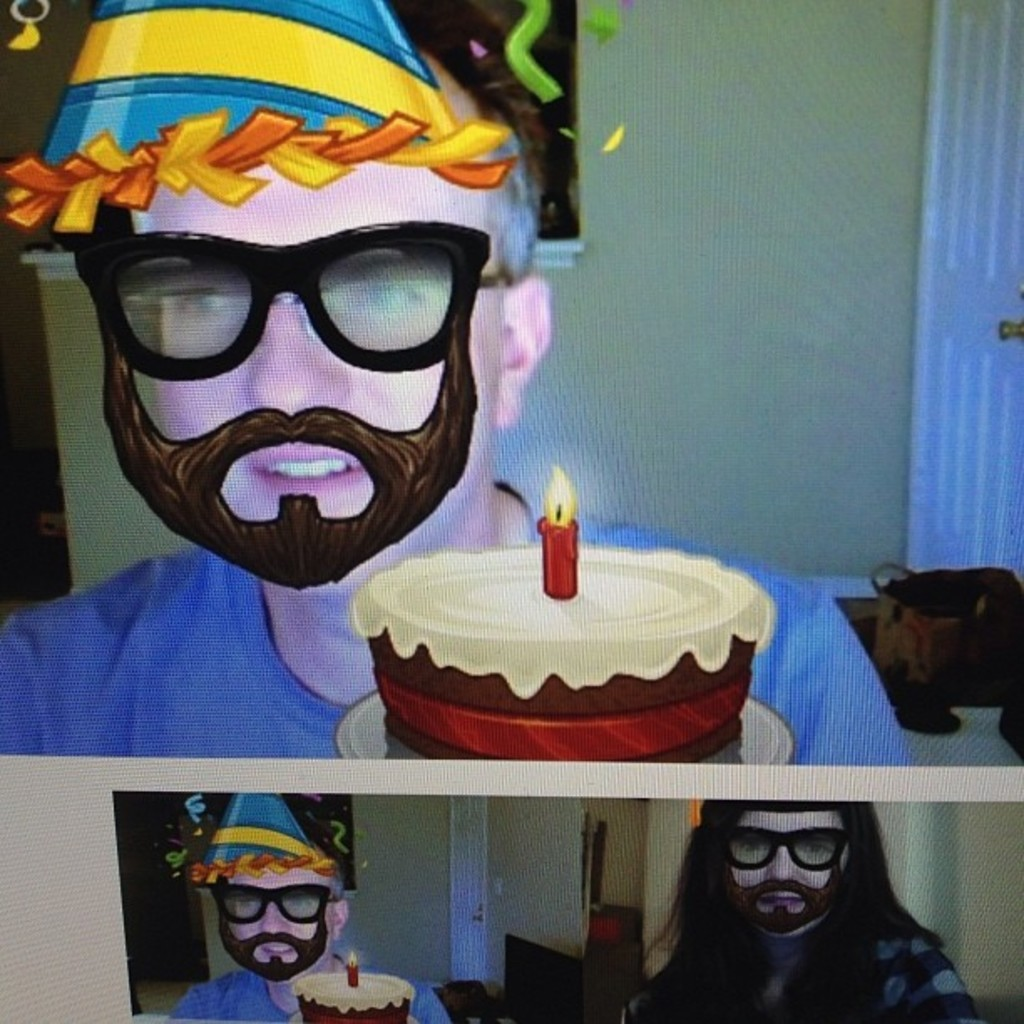cake: (346, 540, 773, 760), (294, 970, 415, 1022)
